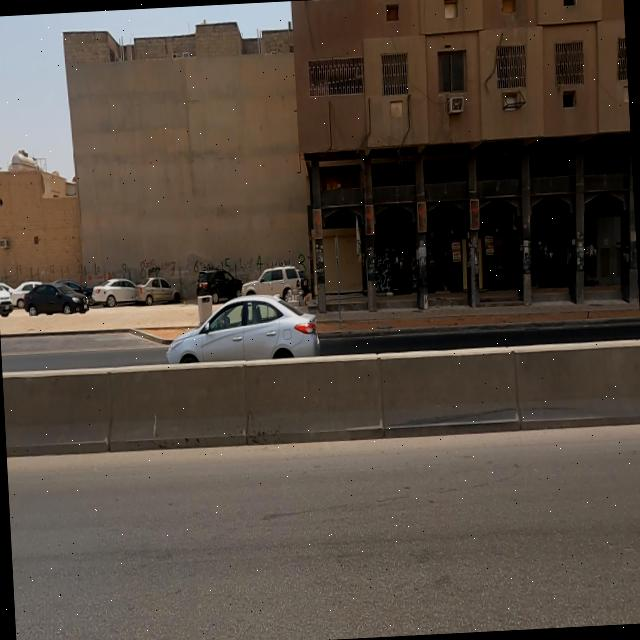Graffiti: (84, 257, 215, 283), (222, 253, 291, 274), (374, 246, 394, 295), (296, 252, 309, 276), (76, 266, 86, 288), (15, 263, 24, 279), (48, 265, 58, 276)
